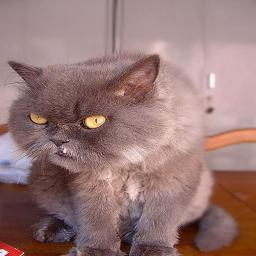catnose: (46, 135, 73, 148)
